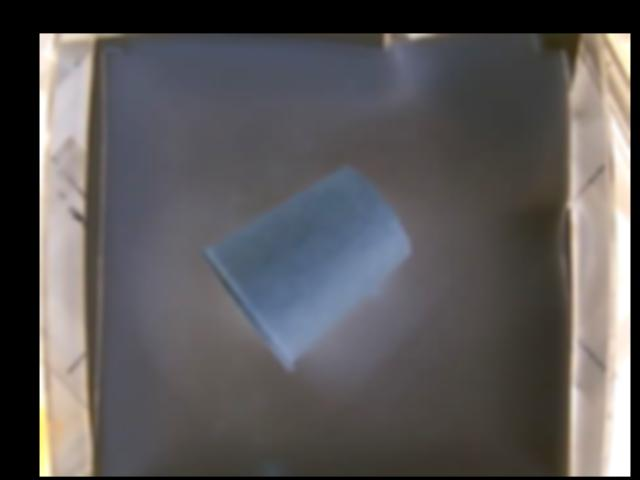Cup: (202, 165, 414, 372)
